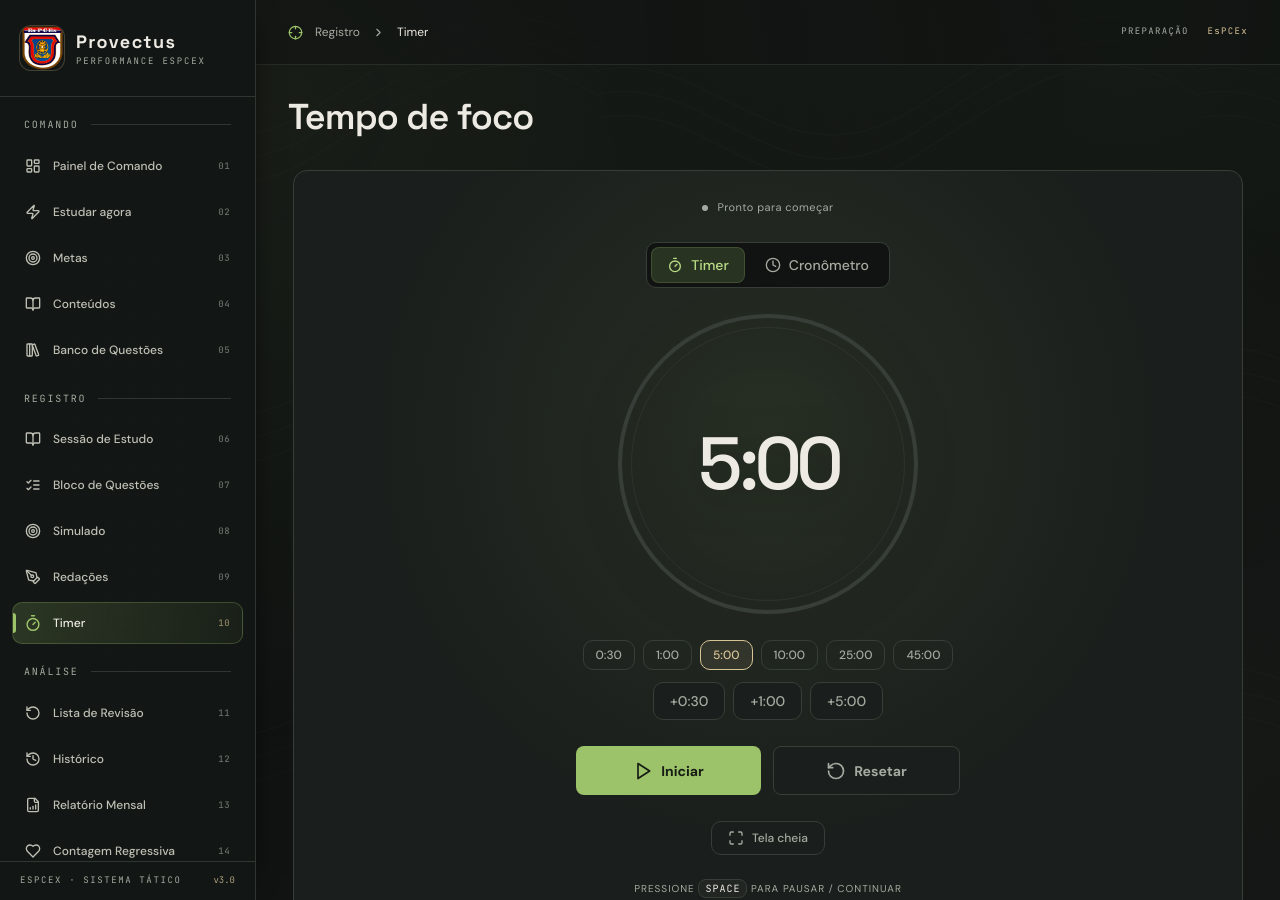
Test: Redesign preserves study workflows › timer start, pause, presets and mode switching still respond
Click the button "25:00" at x=856, y=655, box [826,640,886,670]
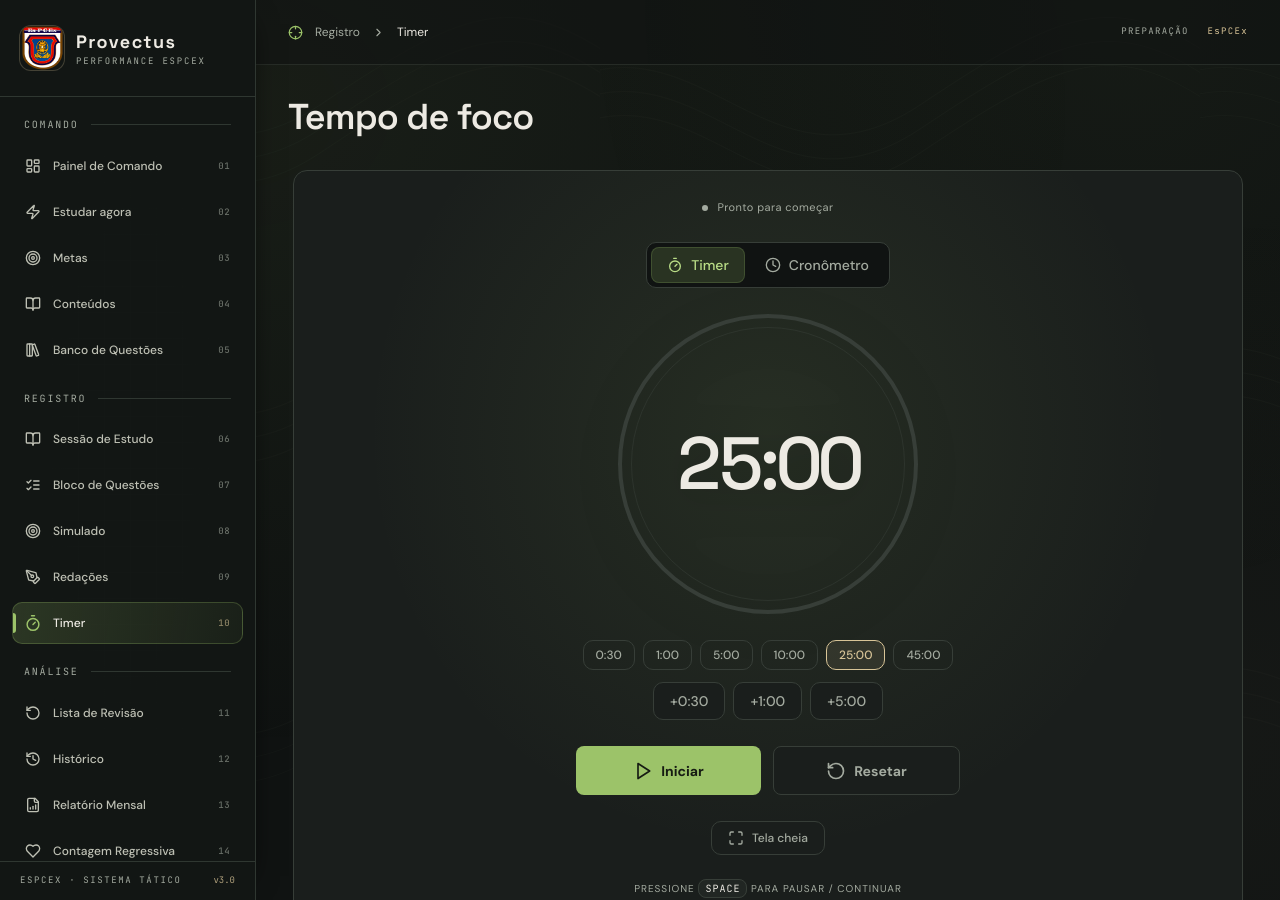
Check: the text "25:00" is shown, box [676,427,860,501]
Click the button "Iniciar" at x=668, y=771, box [576,746,761,795]
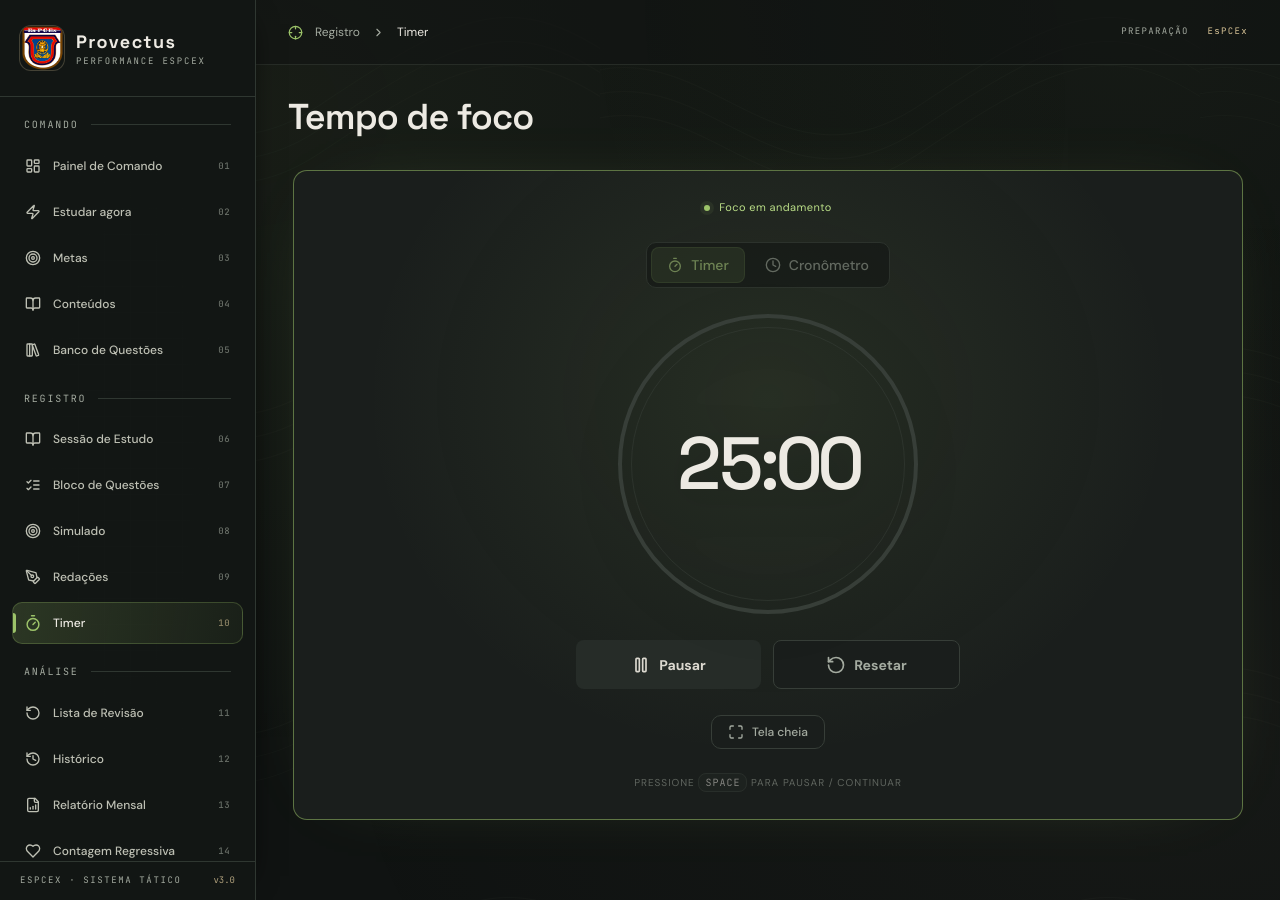
Check: the message reads "Foco em andamento", box [719,200,832,214]
Click the button "Pausar" at x=668, y=665, box [576,640,761,689]
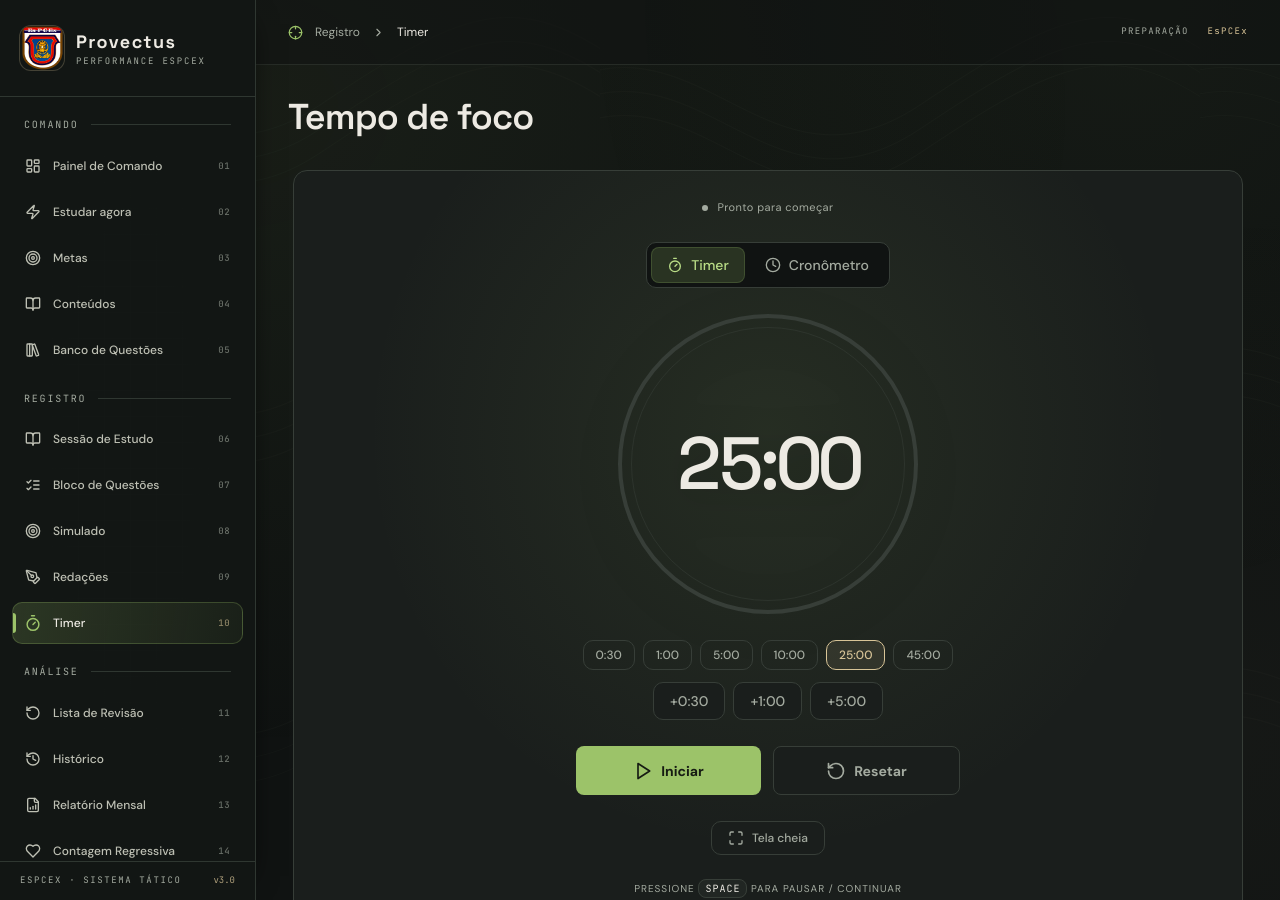
Check: the button "Iniciar" is enabled, box [576,746,761,795]
Click the button "Cronômetro" at x=817, y=265, box [749,247,885,283]
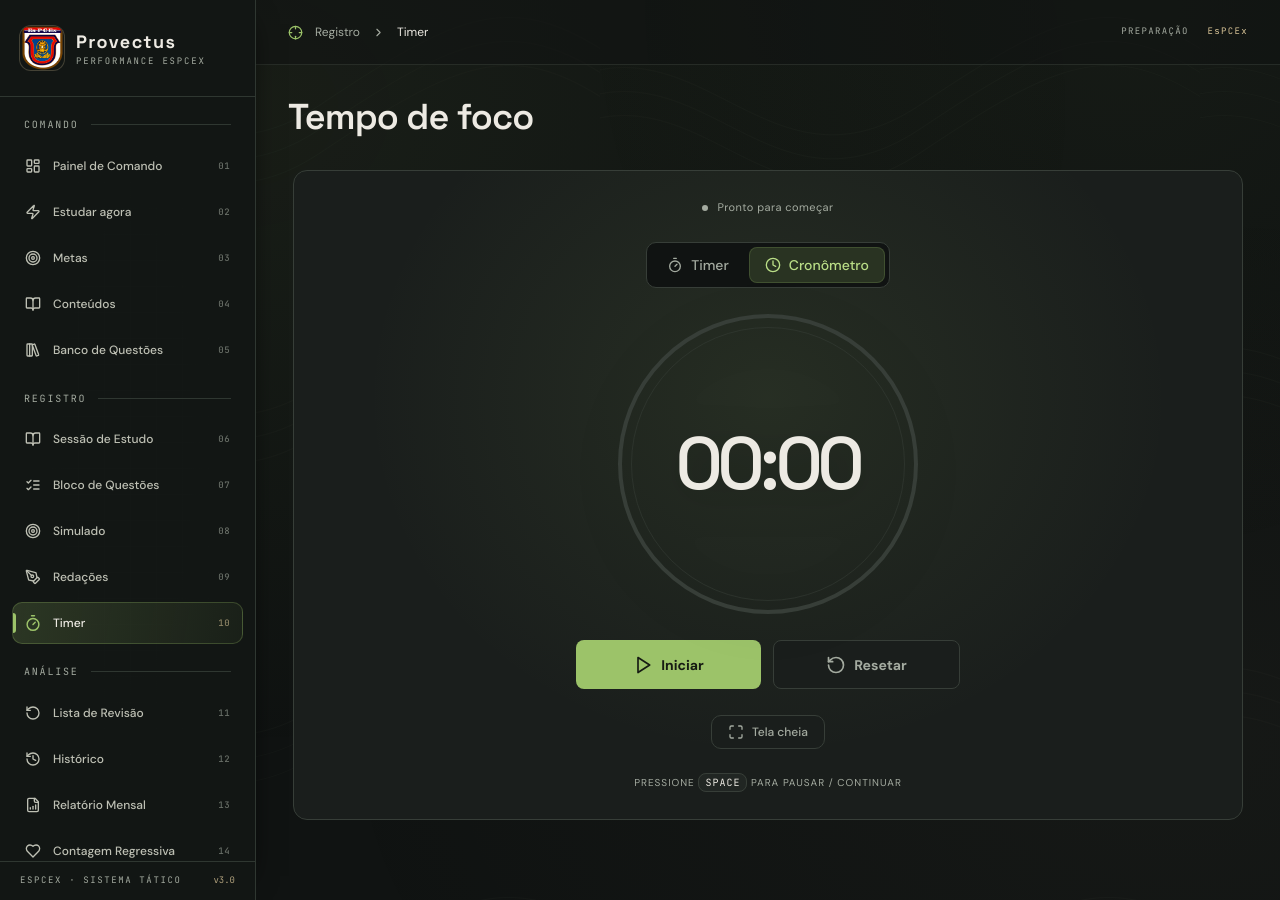
Check: the text "00:00" is shown, box [676,427,860,501]
Click the button "Tela cheia" at x=768, y=732, box [711,715,825,749]
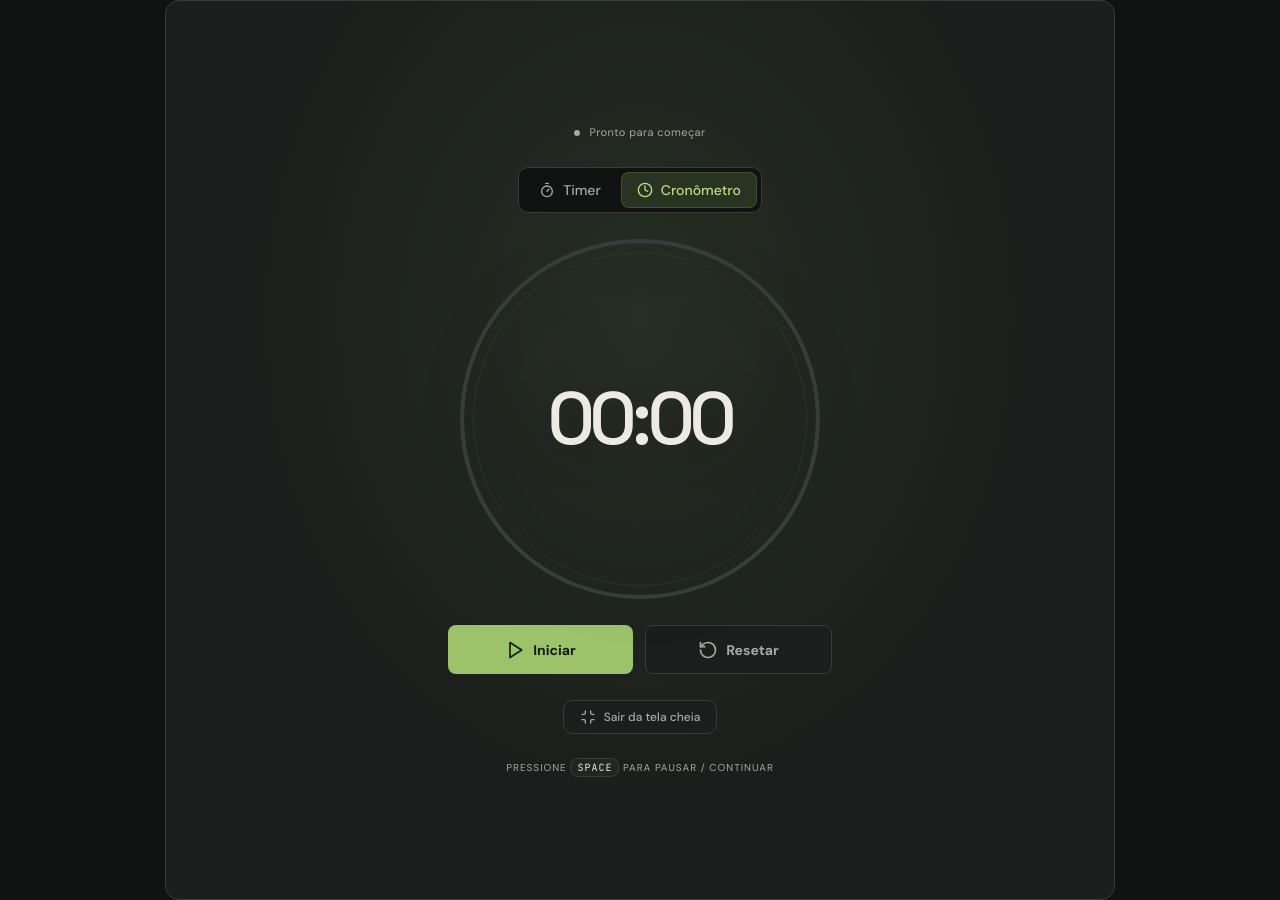
Check: the button "Sair da tela cheia" is shown, box [563,700,717,734]
